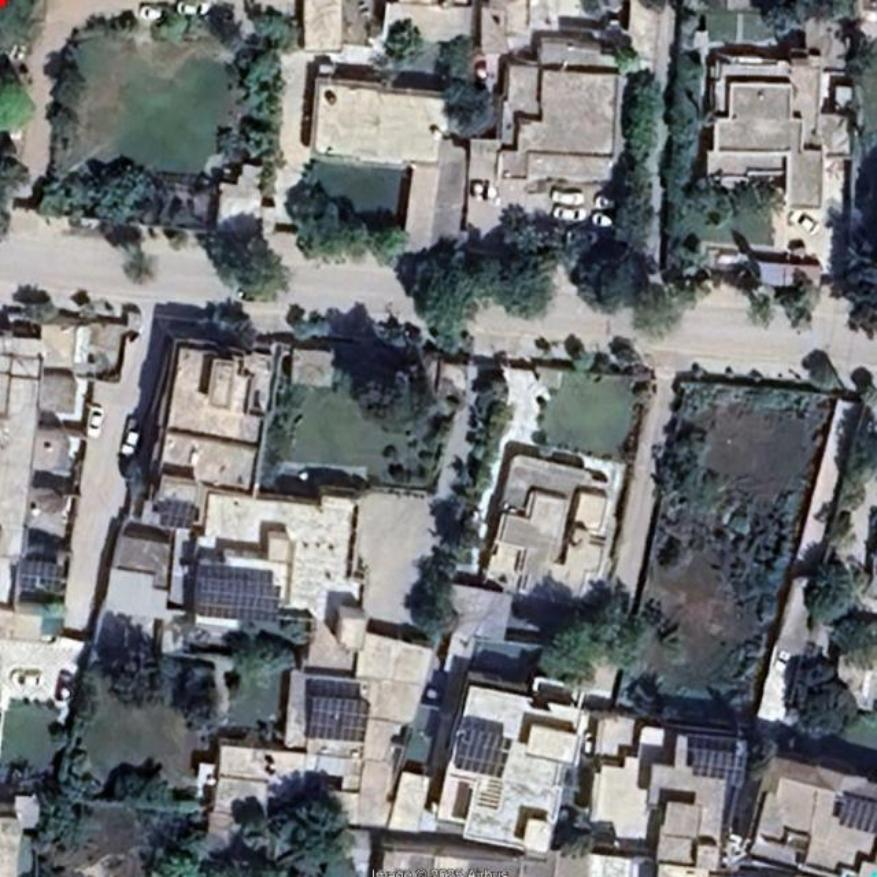Solarpanel: (194, 564, 275, 621), (305, 697, 369, 743), (457, 727, 512, 779), (690, 749, 747, 785), (16, 559, 67, 596), (841, 794, 876, 835), (160, 498, 199, 530)
